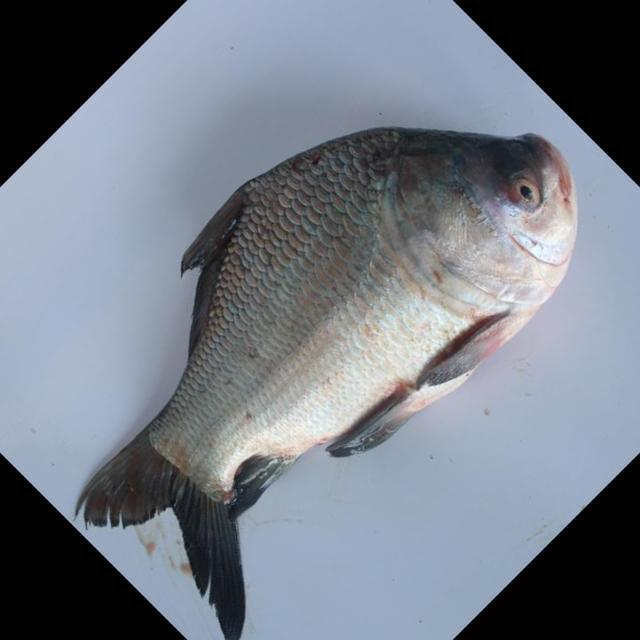Catla: (71, 124, 581, 640)
